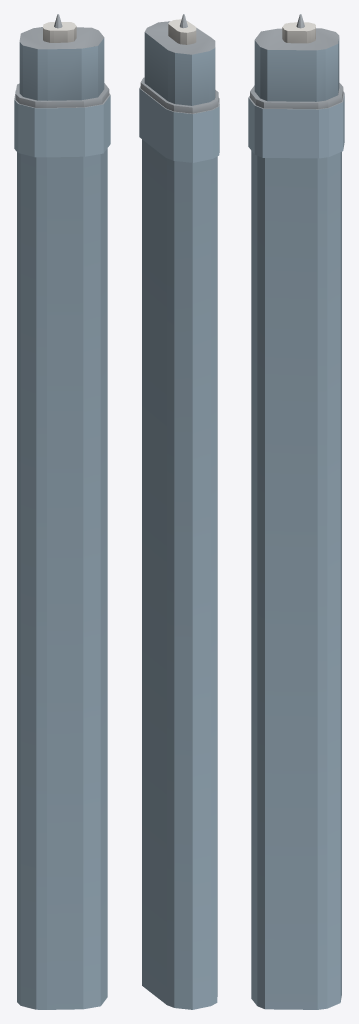
File: tower_05.glb
The picture shows the model from 3 angles, left to right: view 1: azimuth 90°, elevation 25°; view 2: azimuth 210°, elevation 25°; view 3: azimuth 270°, elevation 25°; orthographic projection.
Parts seen in each view (by area): view 1: tower_05; view 2: tower_05; view 3: tower_05.
Part boxes in pixels (x1,y1,x2,y2): tower_05: (14, 14, 110, 1009); tower_05: (139, 14, 219, 1009); tower_05: (248, 14, 344, 1009).
Size of the model in its own units: 17.85 by 323 by 28.71.
